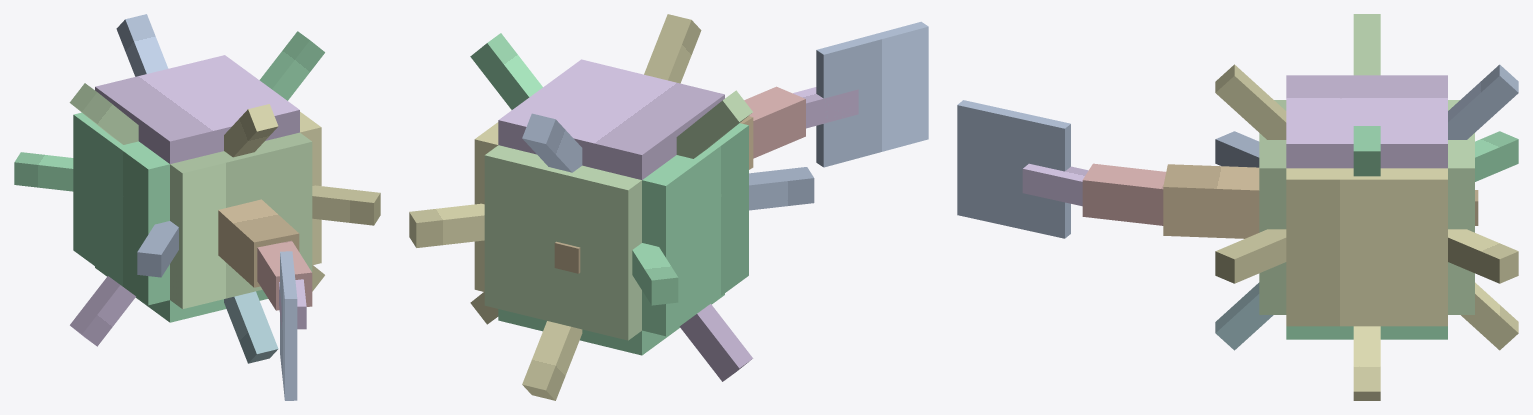
File: elder_guardian.gltf
3 renders of one model, left to right at view 1: azimuth 30°, elevation 25°; view 2: azimuth 150°, elevation 25°; view 3: azimuth 270°, elevation 25°, orthographic. The views are drawn at different scales.
Parts seen in each view (by area): view 1: 92fbe5e4-f9d3-47a3-a79e-0919a6d10985, 2dc20434-ce6c-c700-a1f7-a26ec2bf0142, 0ad61ece-3b47-c087-251a-9c0ffbe502ef, 59a6496c-bd8d-f0d3-d064-62236c5d4657, d33dfe08-0fd1-54d3-554a-4f38eac382c4, 2bacff23-7fa2-c4fd-7da0-771018120508, ddfd62c2-688d-c8ed-9e52-74f5f6c59a90, 833f2d5f-8129-41b4-bbd4-4e5a567729ca, bb7f390a-dae5-324c-b9e7-1c0fc24de49d, 27d823aa-fc8a-9ec3-be03-b84891269fbc, fb076795-0cd6-95d6-c13d-011320d58fbc, a32bb666-b376-9e4d-2107-8d1abbdbbe44 (+6 smaller); view 2: 92fbe5e4-f9d3-47a3-a79e-0919a6d10985, 2dc20434-ce6c-c700-a1f7-a26ec2bf0142, 0ad61ece-3b47-c087-251a-9c0ffbe502ef, d33dfe08-0fd1-54d3-554a-4f38eac382c4, a32bb666-b376-9e4d-2107-8d1abbdbbe44, 6bb74b51-59f4-1086-b459-2cd6abbd2575, 1a465b2b-04de-d866-4a25-e37032a8f676, 833f2d5f-8129-41b4-bbd4-4e5a567729ca, bb7f390a-dae5-324c-b9e7-1c0fc24de49d, a765e781-cd63-1fae-c8ed-83f6b3346a4f, c90e7c3b-277c-d67c-3dee-6033796c22d9, 505be416-20f0-0d46-075e-bc5e481d7dde (+6 smaller); view 3: b9d34d26-070d-1a52-2e55-dda9b01a0901, 0ad61ece-3b47-c087-251a-9c0ffbe502ef, d33dfe08-0fd1-54d3-554a-4f38eac382c4, 92fbe5e4-f9d3-47a3-a79e-0919a6d10985, 59a6496c-bd8d-f0d3-d064-62236c5d4657, a32bb666-b376-9e4d-2107-8d1abbdbbe44, a765e781-cd63-1fae-c8ed-83f6b3346a4f, fb076795-0cd6-95d6-c13d-011320d58fbc, ddfd62c2-688d-c8ed-9e52-74f5f6c59a90, 1a465b2b-04de-d866-4a25-e37032a8f676, c8ab1e0c-db3f-bf57-fd40-e86b9e6a87d6, 36c0443a-dec4-61e2-5608-c4f218794d17 (+7 smaller).
Part boxes in pixels (x1=…): 92fbe5e4-f9d3-47a3-a79e-0919a6d10985: x1=170, y1=132, x2=312, y2=309; 2dc20434-ce6c-c700-a1f7-a26ec2bf0142: x1=73, y1=112, x2=169, y2=305; 0ad61ece-3b47-c087-251a-9c0ffbe502ef: x1=95, y1=55, x2=299, y2=163; 59a6496c-bd8d-f0d3-d064-62236c5d4657: x1=218, y1=199, x2=299, y2=287; d33dfe08-0fd1-54d3-554a-4f38eac382c4: x1=280, y1=251, x2=297, y2=400; 2bacff23-7fa2-c4fd-7da0-771018120508: x1=224, y1=291, x2=278, y2=363; ddfd62c2-688d-c8ed-9e52-74f5f6c59a90: x1=312, y1=185, x2=380, y2=225; 833f2d5f-8129-41b4-bbd4-4e5a567729ca: x1=70, y1=276, x2=135, y2=346; bb7f390a-dae5-324c-b9e7-1c0fc24de49d: x1=259, y1=31, x2=324, y2=100; 27d823aa-fc8a-9ec3-be03-b84891269fbc: x1=14, y1=152, x2=73, y2=191; fb076795-0cd6-95d6-c13d-011320d58fbc: x1=116, y1=14, x2=168, y2=76; a32bb666-b376-9e4d-2107-8d1abbdbbe44: x1=257, y1=240, x2=312, y2=310; 92fbe5e4-f9d3-47a3-a79e-0919a6d10985: x1=484, y1=145, x2=641, y2=340; 2dc20434-ce6c-c700-a1f7-a26ec2bf0142: x1=642, y1=123, x2=748, y2=336; 0ad61ece-3b47-c087-251a-9c0ffbe502ef: x1=498, y1=59, x2=724, y2=179; d33dfe08-0fd1-54d3-554a-4f38eac382c4: x1=816, y1=21, x2=928, y2=167; a32bb666-b376-9e4d-2107-8d1abbdbbe44: x1=744, y1=86, x2=805, y2=158; 6bb74b51-59f4-1086-b459-2cd6abbd2575: x1=522, y1=321, x2=582, y2=400; 1a465b2b-04de-d866-4a25-e37032a8f676: x1=409, y1=203, x2=484, y2=247; 833f2d5f-8129-41b4-bbd4-4e5a567729ca: x1=679, y1=304, x2=752, y2=381; bb7f390a-dae5-324c-b9e7-1c0fc24de49d: x1=470, y1=33, x2=542, y2=109; a765e781-cd63-1fae-c8ed-83f6b3346a4f: x1=644, y1=14, x2=701, y2=83; c90e7c3b-277c-d67c-3dee-6033796c22d9: x1=749, y1=167, x2=814, y2=210; 505be416-20f0-0d46-075e-bc5e481d7dde: x1=676, y1=90, x2=752, y2=158; b9d34d26-070d-1a52-2e55-dda9b01a0901: x1=1286, y1=168, x2=1447, y2=326; 0ad61ece-3b47-c087-251a-9c0ffbe502ef: x1=1286, y1=75, x2=1447, y2=168; d33dfe08-0fd1-54d3-554a-4f38eac382c4: x1=957, y1=100, x2=1070, y2=238; 92fbe5e4-f9d3-47a3-a79e-0919a6d10985: x1=1259, y1=100, x2=1474, y2=314; 59a6496c-bd8d-f0d3-d064-62236c5d4657: x1=1163, y1=164, x2=1259, y2=238; a32bb666-b376-9e4d-2107-8d1abbdbbe44: x1=1082, y1=163, x2=1166, y2=225; a765e781-cd63-1fae-c8ed-83f6b3346a4f: x1=1215, y1=64, x2=1286, y2=139; fb076795-0cd6-95d6-c13d-011320d58fbc: x1=1448, y1=64, x2=1518, y2=139; ddfd62c2-688d-c8ed-9e52-74f5f6c59a90: x1=1215, y1=229, x2=1286, y2=283; 1a465b2b-04de-d866-4a25-e37032a8f676: x1=1448, y1=229, x2=1518, y2=283; c8ab1e0c-db3f-bf57-fd40-e86b9e6a87d6: x1=1353, y1=326, x2=1380, y2=400; 36c0443a-dec4-61e2-5608-c4f218794d17: x1=1022, y1=163, x2=1088, y2=206.
Size of the model in its own units: 1.41 by 1.41 by 2.6.
Materials: 8 (8 with a texture image).
